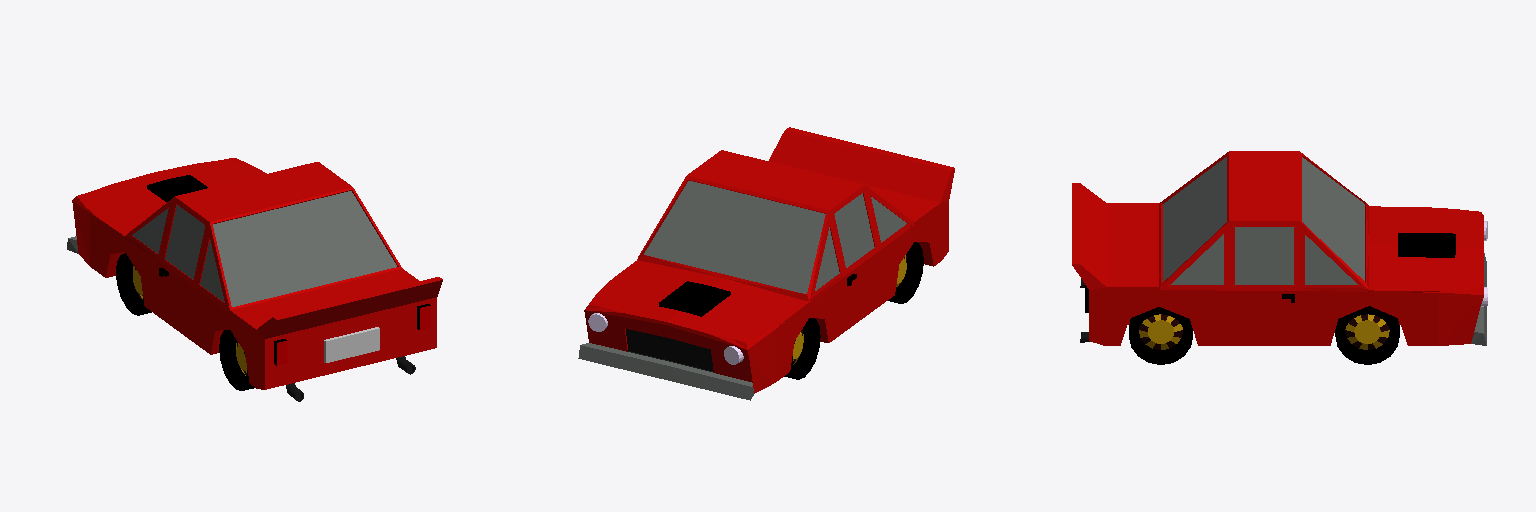
File: automodel.obj
3 views of the same model, side by side, from view 1: azimuth 30°, elevation 25°; view 2: azimuth 150°, elevation 25°; view 3: azimuth 270°, elevation 25° (orthographic).
Visible parts, largest first — view 1: Cube, Cylinder, Cube.002, Cube.001; view 2: Cube, Cylinder, Cylinder.001; view 3: Cube, Cylinder.
Boxes of the visible parts, box(x1,y1,x2,y2) form: Cube: box(67, 158, 442, 389); Cylinder: box(116, 253, 254, 390); Cube.002: box(324, 327, 379, 362); Cube.001: box(274, 304, 430, 365); Cube: box(578, 127, 954, 400); Cylinder: box(784, 242, 923, 379); Cylinder.001: box(588, 313, 743, 364); Cube: box(1072, 151, 1486, 345); Cylinder: box(1129, 306, 1399, 364).
Size of the model in its own units: 6.63 by 4.95 by 13.36.